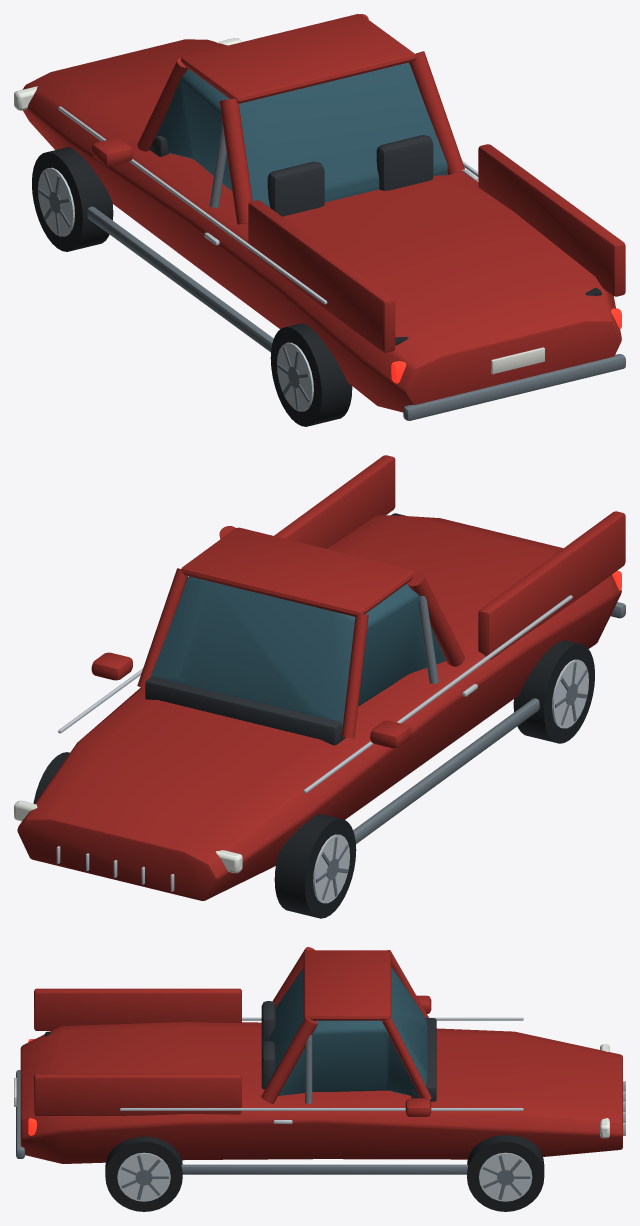
Rendered from Ranger_Pickup.fbx.
The picture shows the model from 3 angles, top to bottom: view 1: azimuth 30°, elevation 25°; view 2: azimuth 150°, elevation 25°; view 3: azimuth 270°, elevation 25°; orthographic projection. The views are drawn at different scales.
Visible parts, largest first — view 1: Body.005, Wheel_LF.005, Wheel_LR.005; view 2: Body.005, Wheel_LF.005, Wheel_LR.005; view 3: Body.005, Wheel_RF.005, Wheel_RR.005.
Part boxes in pixels (box(x1,y1,x2,y2)): Body.005: box(23, 14, 625, 420); Wheel_LF.005: box(32, 147, 113, 251); Wheel_LR.005: box(270, 323, 352, 426); Body.005: box(17, 455, 625, 900); Wheel_LF.005: box(274, 814, 356, 918); Wheel_LR.005: box(513, 640, 594, 743); Body.005: box(14, 947, 625, 1174); Wheel_RF.005: box(467, 1135, 544, 1211); Wheel_RR.005: box(105, 1136, 182, 1211).
Size of the model in its own units: 2.43 by 1.79 by 5.54.
